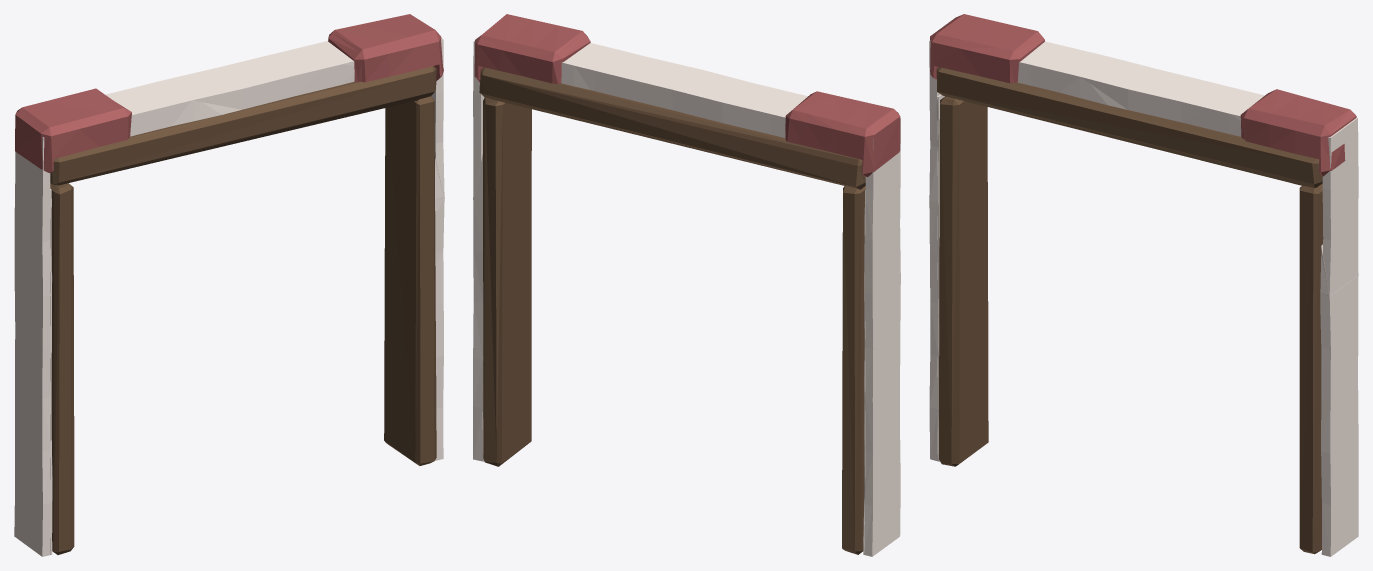
The model's file is PKF_PKX_Wall_Garage_v1.fbx.
3 renders of one model, left to right at view 1: azimuth 30°, elevation 25°; view 2: azimuth 150°, elevation 25°; view 3: azimuth 330°, elevation 25°, orthographic.
Visible parts, largest first — view 1: PKX_Wall_Garage_Chunk_17, PKX_Wall_Garage_Chunk_01, PKX_Wall_Garage_Chunk_18, PKX_Wall_Garage_Chunk_16, PKX_Wall_Garage_Chunk_00, PKX_Wall_Garage_Chunk_13, PKX_Wall_Garage_Chunk_11, PKX_Wall_Garage_Chunk_04, PKX_Wall_Garage_Chunk_09, PKX_Wall_Garage_Chunk_10, PKX_Wall_Garage_Chunk_07, PKX_Wall_Garage_Chunk_14 (+7 smaller); view 2: PKX_Wall_Garage_Chunk_17, PKX_Wall_Garage_Chunk_01, PKX_Wall_Garage_Chunk_18, PKX_Wall_Garage_Chunk_16, PKX_Wall_Garage_Chunk_00, PKX_Wall_Garage_Chunk_13, PKX_Wall_Garage_Chunk_11, PKX_Wall_Garage_Chunk_09, PKX_Wall_Garage_Chunk_04, PKX_Wall_Garage_Chunk_10, PKX_Wall_Garage_Chunk_07, PKX_Wall_Garage_Chunk_14 (+7 smaller); view 3: PKX_Wall_Garage_Chunk_16, PKX_Wall_Garage_Chunk_18, PKX_Wall_Garage_Chunk_00, PKX_Wall_Garage_Chunk_17, PKX_Wall_Garage_Chunk_02, PKX_Wall_Garage_Chunk_01, PKX_Wall_Garage_Chunk_12, PKX_Wall_Garage_Chunk_11, PKX_Wall_Garage_Chunk_04, PKX_Wall_Garage_Chunk_10, PKX_Wall_Garage_Chunk_07, PKX_Wall_Garage_Chunk_14 (+7 smaller).
Part boxes in pixels (box(x1,y1,x2,y2)): PKX_Wall_Garage_Chunk_17: box(384, 96, 436, 465); PKX_Wall_Garage_Chunk_01: box(14, 107, 53, 556); PKX_Wall_Garage_Chunk_18: box(50, 66, 436, 185); PKX_Wall_Garage_Chunk_16: box(50, 183, 74, 554); PKX_Wall_Garage_Chunk_00: box(435, 158, 444, 460); PKX_Wall_Garage_Chunk_13: box(328, 25, 389, 82); PKX_Wall_Garage_Chunk_11: box(46, 92, 112, 149); PKX_Wall_Garage_Chunk_04: box(141, 77, 202, 127); PKX_Wall_Garage_Chunk_09: box(295, 41, 361, 88); PKX_Wall_Garage_Chunk_10: box(23, 101, 89, 158); PKX_Wall_Garage_Chunk_07: box(233, 55, 294, 104); PKX_Wall_Garage_Chunk_14: box(359, 19, 419, 76); PKX_Wall_Garage_Chunk_17: box(483, 97, 531, 466); PKX_Wall_Garage_Chunk_01: box(862, 108, 900, 556); PKX_Wall_Garage_Chunk_18: box(479, 67, 865, 189); PKX_Wall_Garage_Chunk_16: box(842, 185, 865, 554); PKX_Wall_Garage_Chunk_00: box(473, 154, 483, 461); PKX_Wall_Garage_Chunk_13: box(528, 25, 590, 83); PKX_Wall_Garage_Chunk_11: box(802, 95, 869, 150); PKX_Wall_Garage_Chunk_09: box(556, 43, 621, 89); PKX_Wall_Garage_Chunk_04: box(713, 80, 773, 129); PKX_Wall_Garage_Chunk_10: box(825, 103, 892, 159); PKX_Wall_Garage_Chunk_07: box(622, 57, 683, 105); PKX_Wall_Garage_Chunk_14: box(498, 20, 558, 77); PKX_Wall_Garage_Chunk_16: box(939, 96, 988, 466); PKX_Wall_Garage_Chunk_18: box(936, 67, 1322, 187); PKX_Wall_Garage_Chunk_00: box(1320, 244, 1358, 556); PKX_Wall_Garage_Chunk_17: box(1299, 183, 1323, 554); PKX_Wall_Garage_Chunk_02: box(1318, 109, 1358, 296); PKX_Wall_Garage_Chunk_01: box(929, 14, 964, 461); PKX_Wall_Garage_Chunk_12: box(992, 27, 1052, 83); PKX_Wall_Garage_Chunk_11: box(960, 19, 1021, 79); PKX_Wall_Garage_Chunk_04: box(1053, 50, 1116, 99); PKX_Wall_Garage_Chunk_10: box(934, 14, 987, 74); PKX_Wall_Garage_Chunk_07: box(1147, 73, 1208, 121); PKX_Wall_Garage_Chunk_14: box(1269, 95, 1323, 154).
Size of the model in its own units: 201 by 205 by 31.83.
